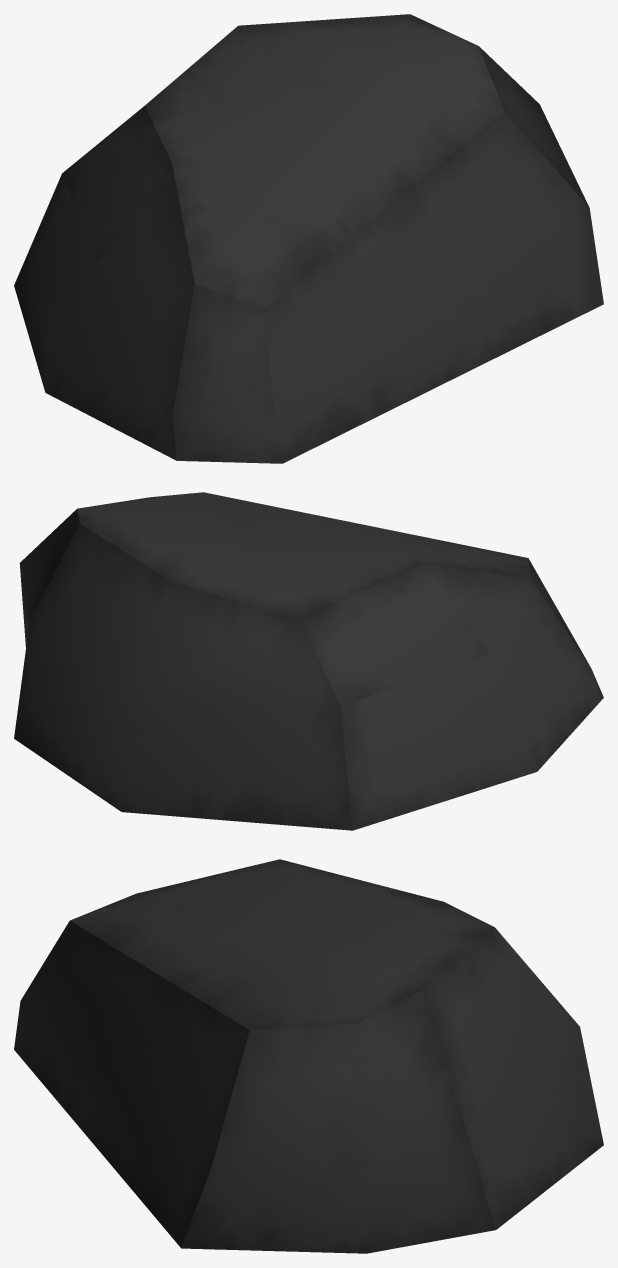
File: Rock3.fbx
The picture shows the model from 3 angles, top to bottom: view 1: azimuth 30°, elevation 25°; view 2: azimuth 150°, elevation 25°; view 3: azimuth 270°, elevation 25°; orthographic projection. The views are drawn at different scales.
Parts seen in each view (by area): view 1: Rock 3; view 2: Rock 3; view 3: Rock 3.
Part boxes in pixels (box(x1,y1,x2,y2)): Rock 3: box(14, 14, 603, 463); Rock 3: box(14, 492, 603, 830); Rock 3: box(14, 859, 603, 1253).
Bounding box in the file's own units: 31.7 × 30.11 × 12.89.
